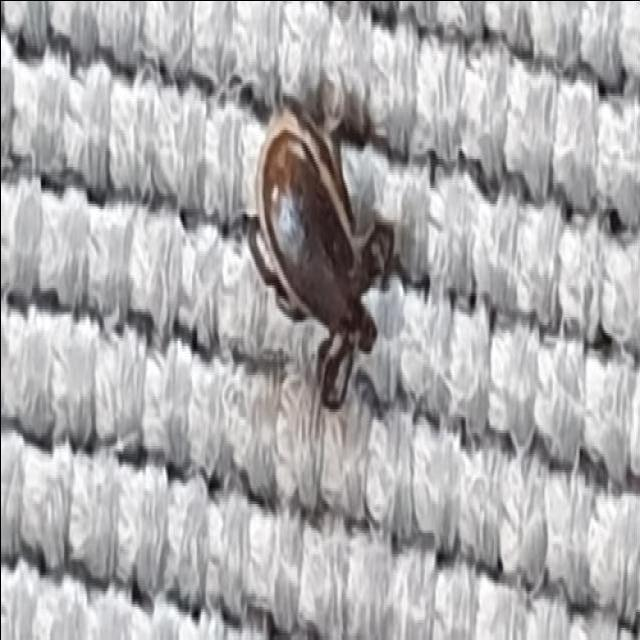Ixodes Ricinus-M: (248, 95, 396, 413)
